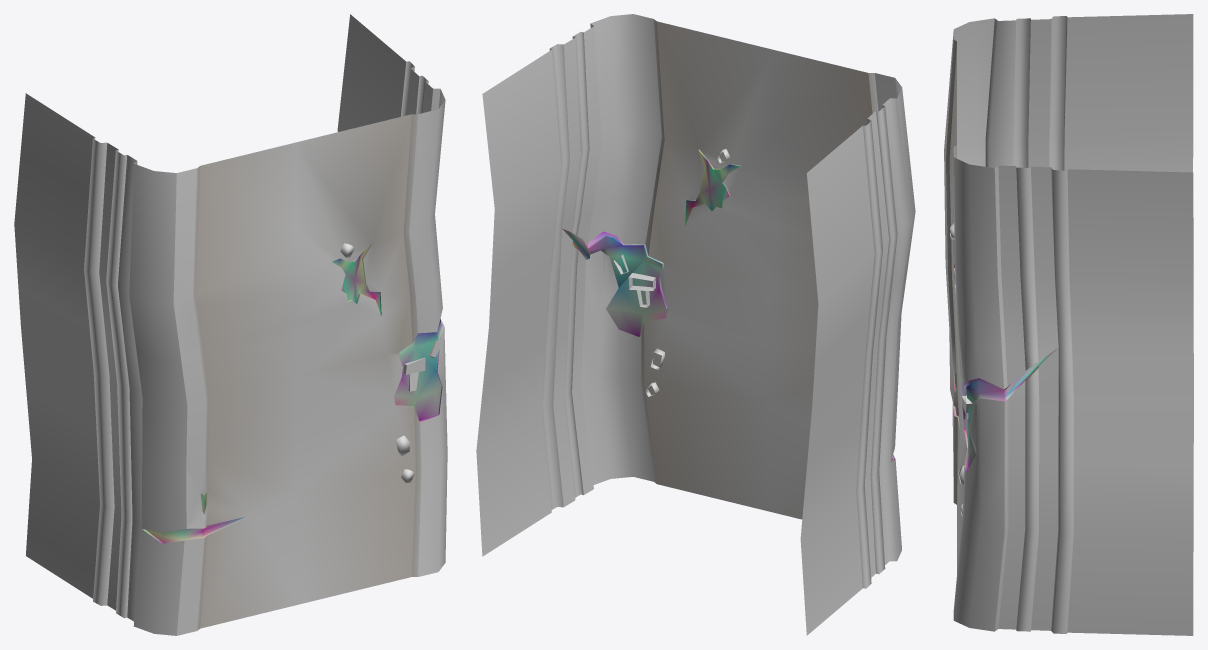
Rendered from Temple_Wide_StraightA.glb.
3 views of the same model, side by side, from view 1: azimuth 30°, elevation 25°; view 2: azimuth 150°, elevation 25°; view 3: azimuth 270°, elevation 25° (orthographic).
Visible parts, largest first — view 1: MeshNode_1, MeshNode_0; view 2: MeshNode_1, MeshNode_0; view 3: MeshNode_1, MeshNode_0.
Part boxes in pixels (<box>): MeshNode_1: <box>14,14,447,635</box>; MeshNode_0: <box>142,244,444,544</box>; MeshNode_1: <box>476,14,915,635</box>; MeshNode_0: <box>562,149,895,462</box>; MeshNode_1: <box>944,14,1193,635</box>; MeshNode_0: <box>952,264,1057,472</box>.
Bounding box in the file's own units: 49.47 × 64 × 31.28.
